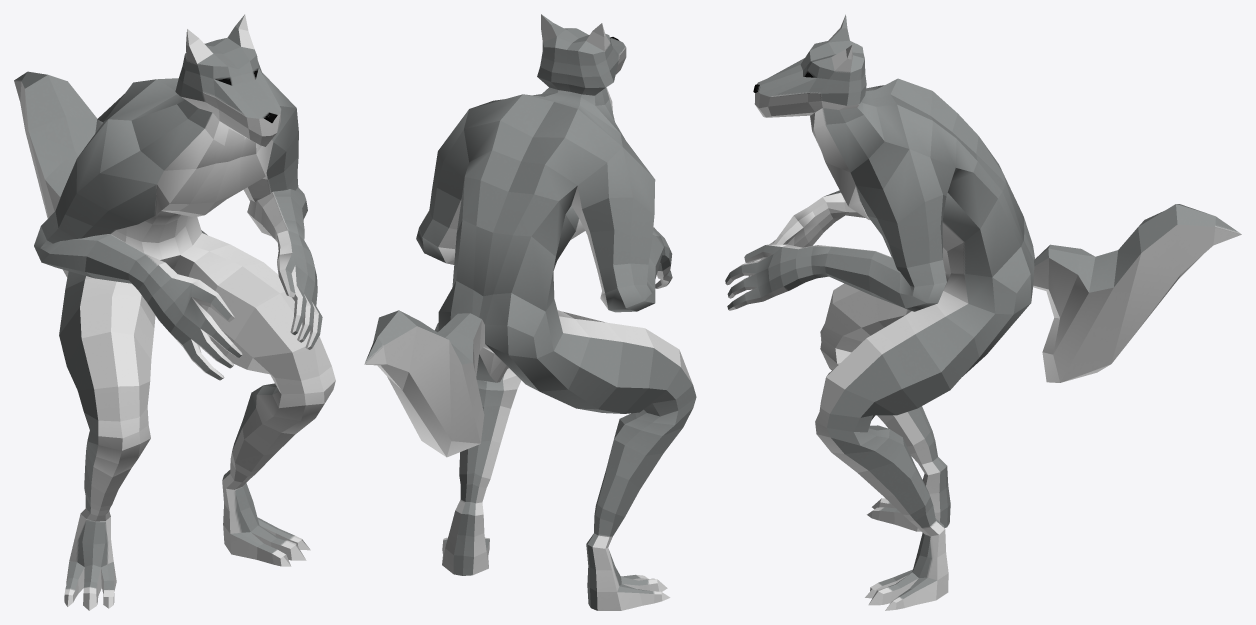
File: WolfIdle_(2).obj
The picture shows the model from 3 angles, left to right: view 1: azimuth 30°, elevation 25°; view 2: azimuth 150°, elevation 25°; view 3: azimuth 270°, elevation 25°; orthographic projection. The views are drawn at different scales.
Parts seen in each view (by area): view 1: Box001; view 2: Box001; view 3: Box001.
Boxes of the visible parts, x1=… form: Box001: x1=14, y1=14, x2=335, y2=610; Box001: x1=364, y1=14, x2=696, y2=610; Box001: x1=725, y1=14, x2=1241, y2=610.
Size of the model in its own units: 61.18 by 131 by 115.
